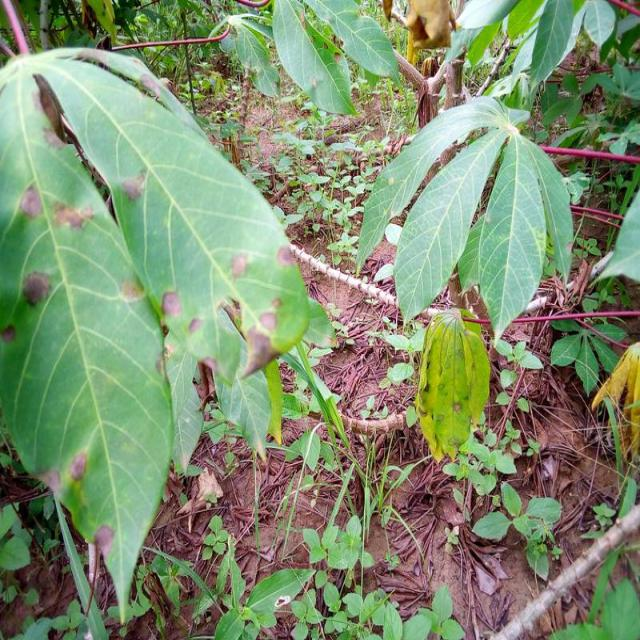cassava leaf: (0, 45, 312, 623), (414, 307, 490, 463)
